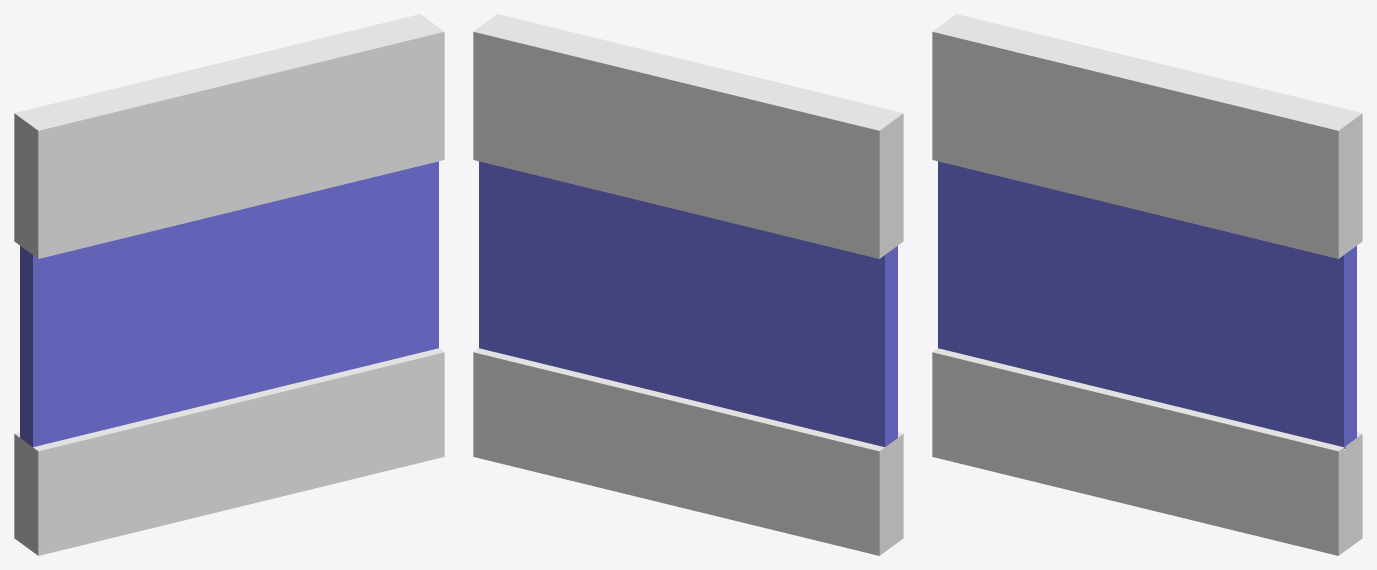
The model's file is Window1.fbx.
3 views of the same model, side by side, from view 1: azimuth 30°, elevation 25°; view 2: azimuth 150°, elevation 25°; view 3: azimuth 330°, elevation 25° (orthographic).
Visible parts, largest first — view 1: Operating room Window1-1-1, Operating room Window1-1-1.002, Operating room Window1-1-1.001; view 2: Operating room Window1-1-1, Operating room Window1-1-1.002, Operating room Window1-1-1.001; view 3: Operating room Window1-1-1, Operating room Window1-1-1.002, Operating room Window1-1-1.001.
Part boxes in pixels (box(x1,y1,x2,y2)): Operating room Window1-1-1: box(20, 161, 438, 446); Operating room Window1-1-1.002: box(14, 14, 444, 258); Operating room Window1-1-1.001: box(14, 348, 444, 555); Operating room Window1-1-1: box(479, 161, 897, 446); Operating room Window1-1-1.002: box(473, 14, 903, 258); Operating room Window1-1-1.001: box(473, 348, 903, 555); Operating room Window1-1-1: box(938, 161, 1356, 446); Operating room Window1-1-1.002: box(932, 14, 1362, 258); Operating room Window1-1-1.001: box(932, 348, 1362, 555).
Size of the model in its own units: 1260 by 1260 by 130.
